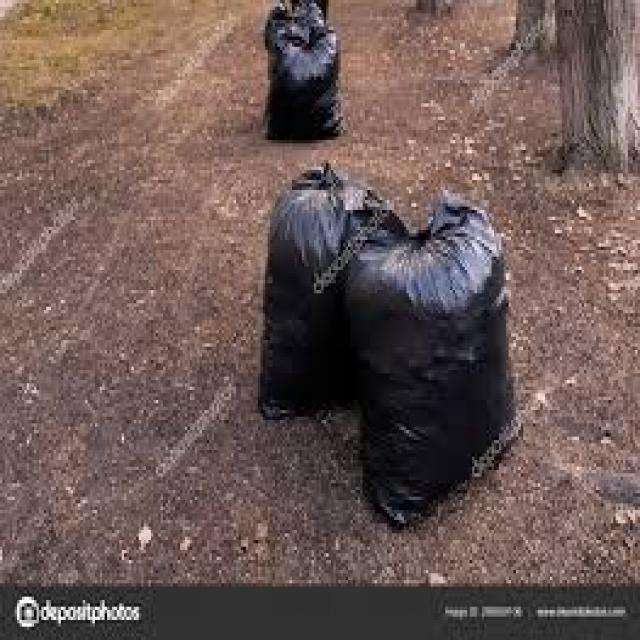garbage: (252, 150, 536, 530), (256, 0, 360, 147)
